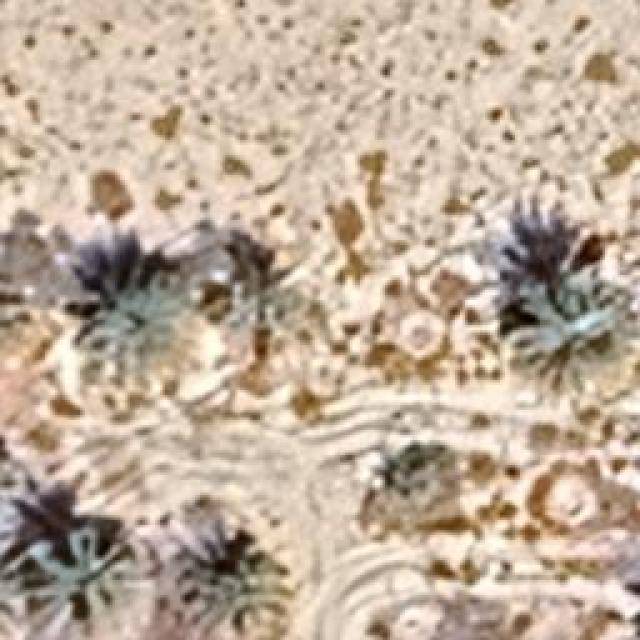PalmTree: (15, 113, 89, 582), (89, 105, 260, 296), (512, 400, 638, 540), (84, 262, 198, 378), (18, 528, 132, 638), (528, 240, 618, 375), (172, 542, 290, 638), (0, 230, 62, 360)
